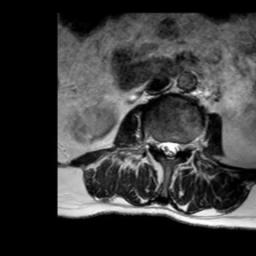CCS_normal: (165, 131, 173, 165)
LFS_normal: (181, 133, 189, 157)
LLS_normal: (173, 131, 181, 161)
RFS_normal: (150, 130, 157, 157)
RLS_normal: (157, 133, 165, 159)
